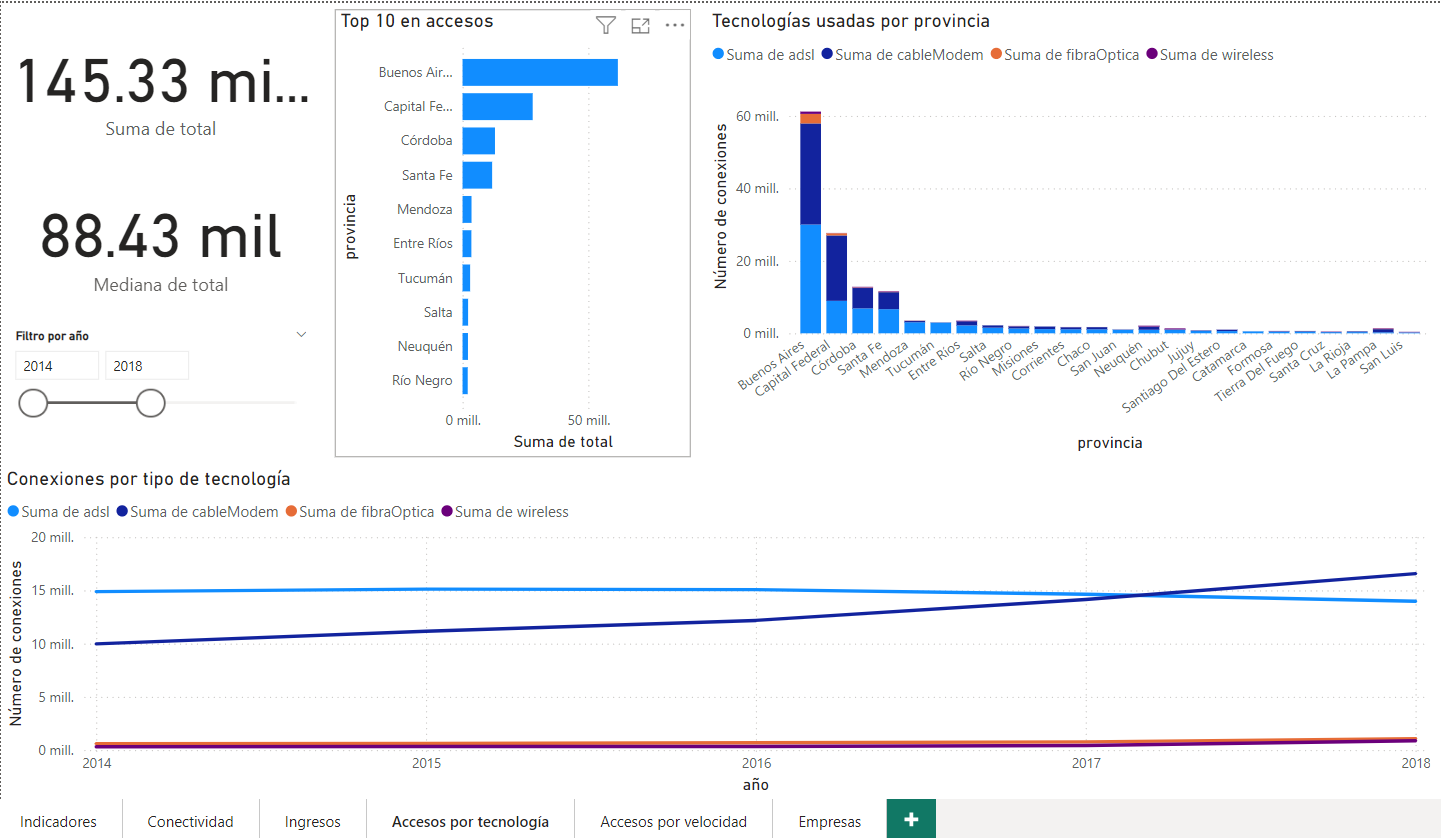

This screenshot's page, from the dashboard's own definition file:
{"tool":"powerbi","page":{"name":"Accesos por tecnología","canvas":[1280,720],"ordinal":3},"visuals":[{"type":"lineChart","title":"Conexiones por tipo de tecnología","fields":{"Category":["telecomunicaciones_arg internet_accesos_tecnologia.año"],"Y":["Sum(telecomunicaciones_arg internet_accesos_tecnologia.adsl)","Sum(telecomunicaciones_arg internet_accesos_tecnologia.cableModem)","Sum(telecomunicaciones_arg internet_accesos_tecnologia.fibraOptica)","Sum(telecomunicaciones_arg internet_accesos_tecnologia.wireless)"]},"box":[0,412.2,1275.6,295.6],"z":0},{"type":"slicer","fields":{"Values":["telecomunicaciones_arg internet_accesos_tecnologia.año"]},"box":[0,284.4,284.4,118.9],"z":1},{"type":"clusteredBarChart","title":"Top 10 en accesos ","fields":{"Category":["telecomunicaciones_arg internet_accesos_tecnologia.provincia"],"Y":["Sum(telecomunicaciones_arg internet_accesos_tecnologia.total)"]},"box":[296.7,5.6,316.7,397.8],"z":2},{"type":"columnChart","title":"Tecnologías usadas por provincia","fields":{"Category":["telecomunicaciones_arg internet_accesos_tecnologia.provincia"],"Y":["Sum(telecomunicaciones_arg internet_accesos_tecnologia.adsl)","Sum(telecomunicaciones_arg internet_accesos_tecnologia.cableModem)","Sum(telecomunicaciones_arg internet_accesos_tecnologia.fibraOptica)","Sum(telecomunicaciones_arg internet_accesos_tecnologia.wireless)"]},"box":[626.7,5.6,648.9,397.8],"z":3},{"type":"card","fields":{"Values":["Sum(telecomunicaciones_arg internet_accesos_tecnologia.total)"]},"box":[0,5.6,284.4,134.4],"z":4},{"type":"card","fields":{"Values":["Median(telecomunicaciones_arg internet_accesos_tecnologia.total)"]},"box":[0,146.7,284.4,128.9],"z":5}]}

Visuals, with their boxes on the page's 1280x720 design canvas (x1, y1, x2, y2). These are canvas units, not pixel positions in the 1441x838 screenshot, which may show the page scaled, cropped or inside an application window:
"Conexiones por tipo de tecnología" lineChart: 0,412,1276,708
slicer - telecomunicaciones_arg internet_accesos_tecnologia.año: 0,284,284,403
"Top 10 en accesos " clusteredBarChart: 297,6,613,403
"Tecnologías usadas por provincia" columnChart: 627,6,1276,403
card - Sum(telecomunicaciones_arg internet_accesos_tecnologia.total): 0,6,284,140
card - Median(telecomunicaciones_arg internet_accesos_tecnologia.total): 0,147,284,276
